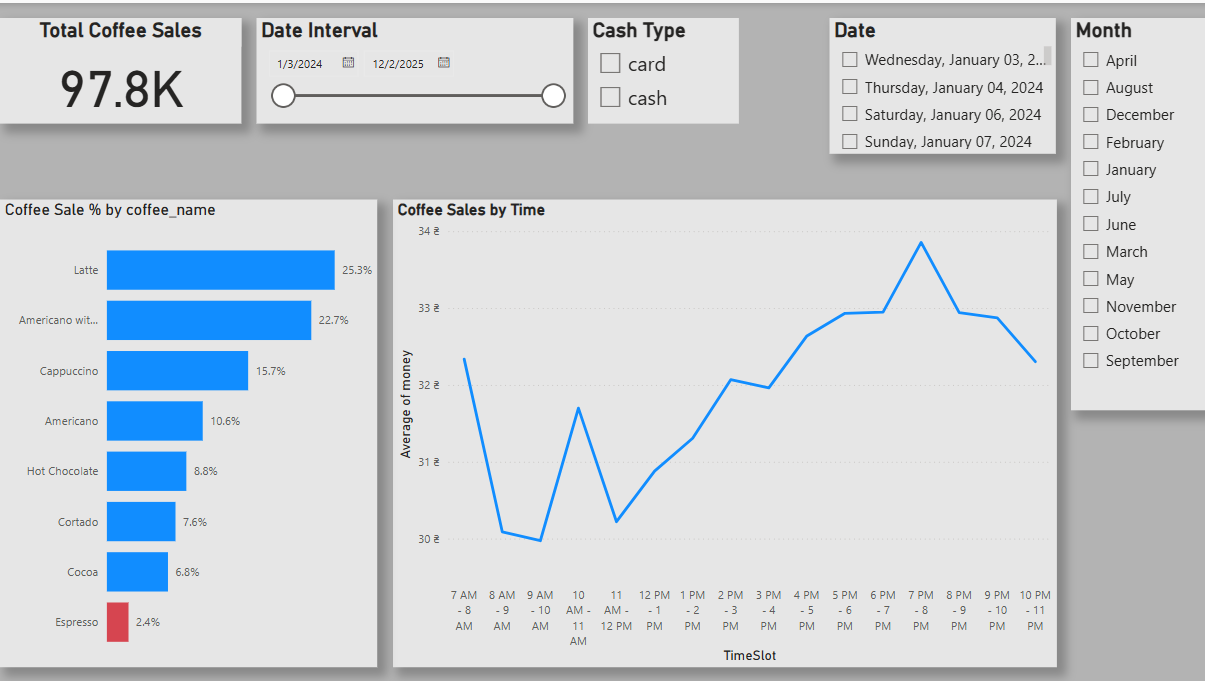

The page's visual inventory and layout, read from the dashboard file:
{"tool":"powerbi","page":{"name":"Sale Insights by Percentage","canvas":[1280,720],"ordinal":1},"visuals":[{"type":"card","title":"Total Coffee Sales","fields":{"Values":["BaseMeasure.Total Coffee Sale"]},"box":[0,16,256,112],"z":0},{"type":"lineChart","title":"Coffee Sales by Time","fields":{"Category":["Coffee Sales.TimeSlot","Coffee Sales.TimeSlotOrder"],"Y":["Avg(Coffee Sales.money)"]},"box":[416,208,704,496],"z":1000},{"type":"slicer","title":"Date","fields":{"Values":["Coffee Sales.date"]},"box":[880,16,240,144],"z":2000},{"type":"slicer","title":"Month","fields":{"Values":["Coffee Sales.Month"]},"box":[1136,16,144,416],"z":3000},{"type":"slicer","title":"Date Interval","fields":{"Values":["Coffee Sales.date"]},"box":[272,16,336,112],"z":4000},{"type":"clusteredBarChart","fields":{"Category":["Coffee Sales.coffee_name"],"Y":["BaseMeasure.Coffee Sale %"]},"box":[0,208,400,496],"z":5000},{"type":"slicer","title":"Cash Type","fields":{"Values":["Coffee Sales.cash_type"]},"box":[624,16,160,112],"z":5001}]}

Visuals, with their boxes in screenshot pixels (x1, y1, x2, y2), scaled from the page's 1280x720 canvas onto the 1205x681 screenshot:
"Total Coffee Sales" card: select_region(0, 15, 241, 121)
"Coffee Sales by Time" lineChart: select_region(392, 197, 1054, 666)
"Date" slicer: select_region(828, 15, 1054, 151)
"Month" slicer: select_region(1069, 15, 1204, 409)
"Date Interval" slicer: select_region(256, 15, 572, 121)
clusteredBarChart - Coffee Sales.coffee_name x BaseMeasure.Coffee Sale %: select_region(0, 197, 377, 666)
"Cash Type" slicer: select_region(587, 15, 738, 121)
